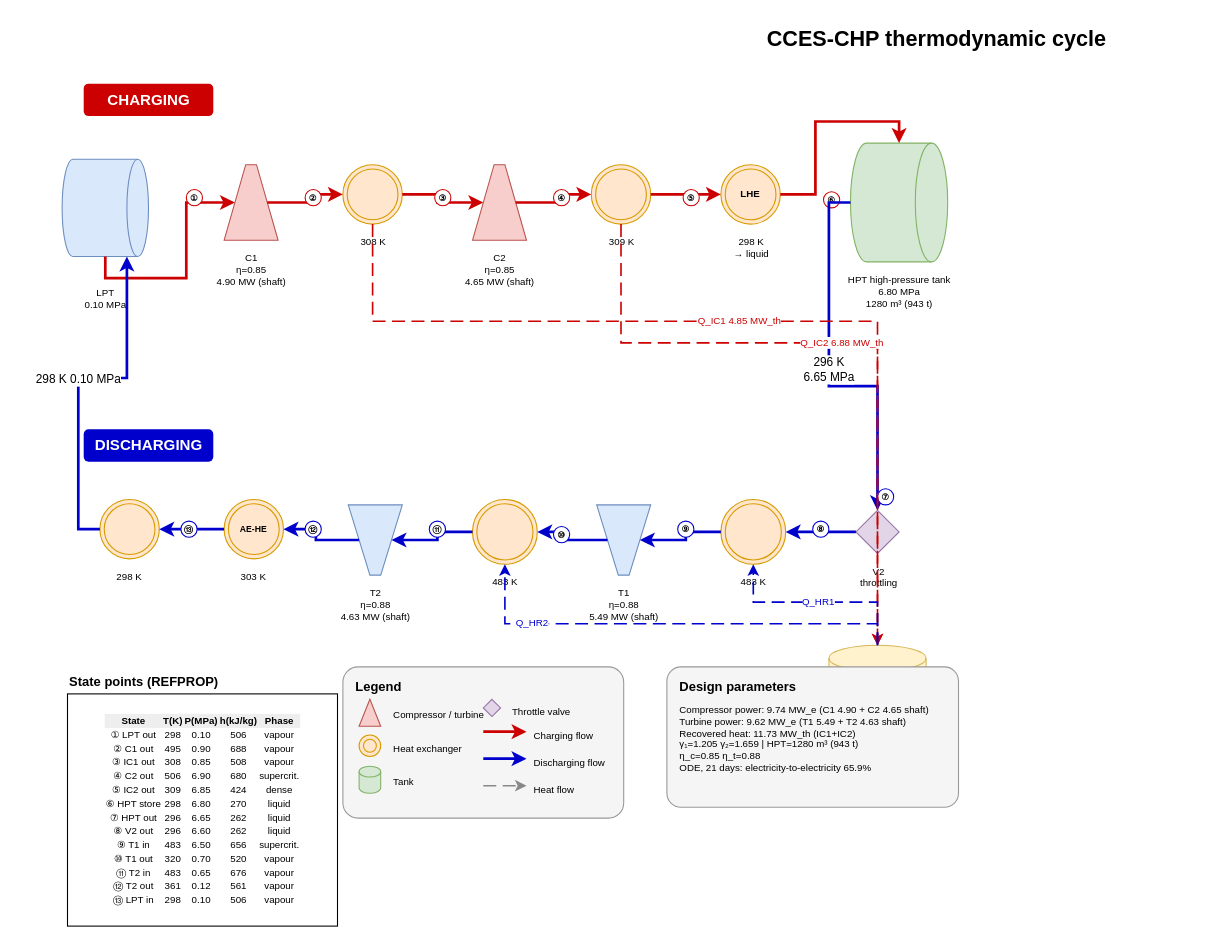
The diagram is 1225 pixels wide and 945 high, and some of its shapes have lost their labels. The centre of each missing label's shape, as x and y in pixels:
Cool: (x=129, y=528)
EHE+HR1: (x=753, y=531)
HR2: (x=504, y=531)
IC1: (x=372, y=194)
IC2: (x=620, y=194)
